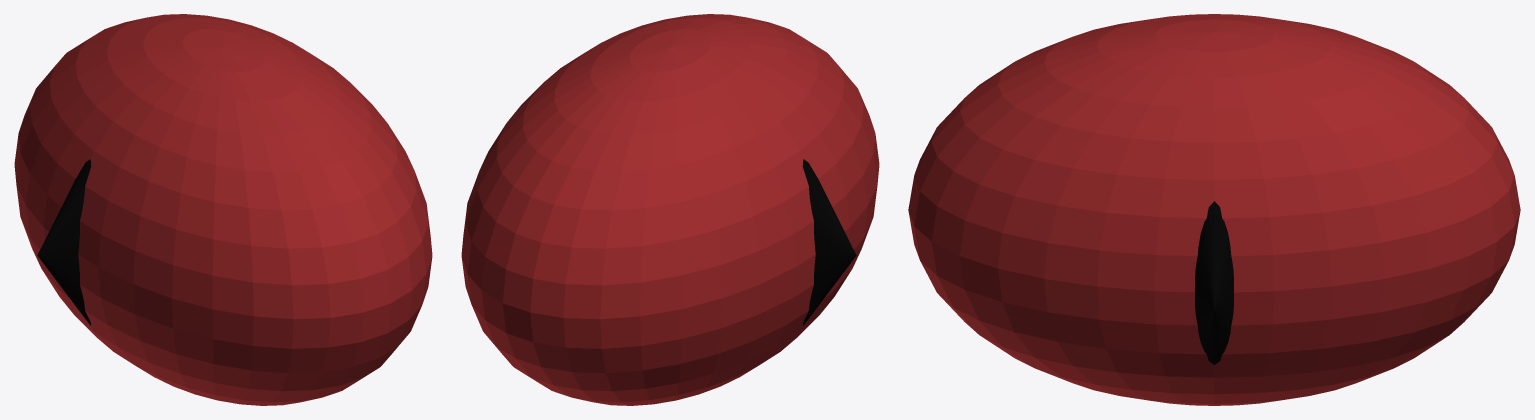
The model's file is ojoTorre.glb.
3 renders of one model, left to right at view 1: azimuth 30°, elevation 25°; view 2: azimuth 150°, elevation 25°; view 3: azimuth 270°, elevation 25°, orthographic. The views are drawn at different scales.
Parts seen in each view (by area): view 1: Cone.001; view 2: Cone.001; view 3: Cone.001.
Boxes of the visible parts, x1,y1,x2,y2 form: Cone.001: (14,14,432,405); Cone.001: (461,14,879,405); Cone.001: (908,14,1520,405).
Size of the model in its own units: 11.94 by 10 by 15.61.
